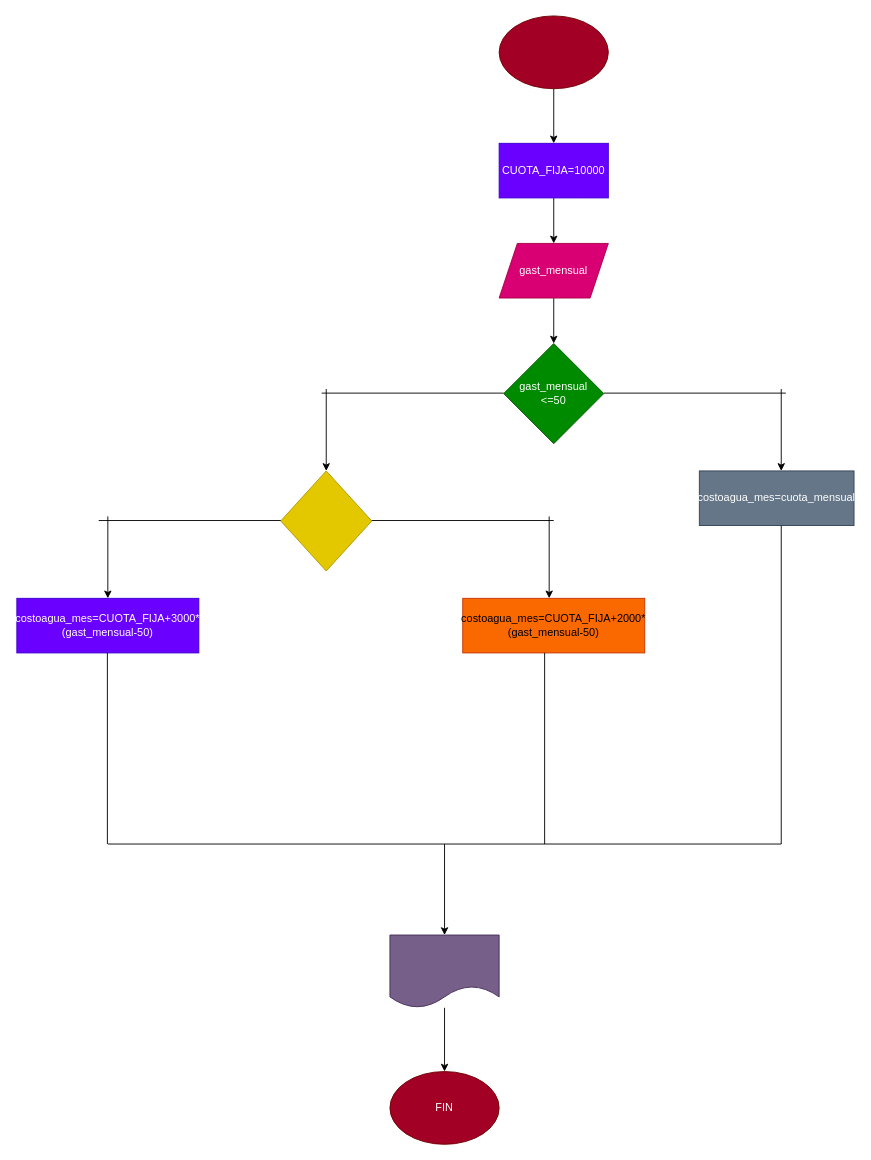
The diagram is 871 pixels wide and 1160 high, and some of its shapes have lost their labels. Here are the shapes that lost their labels. From the top down, the box of each, then its label:
(498, 15, 608, 89): INICIO
(280, 470, 372, 571): gast_mensual <=200
(389, 934, 499, 1008): cuotaagua_valor
